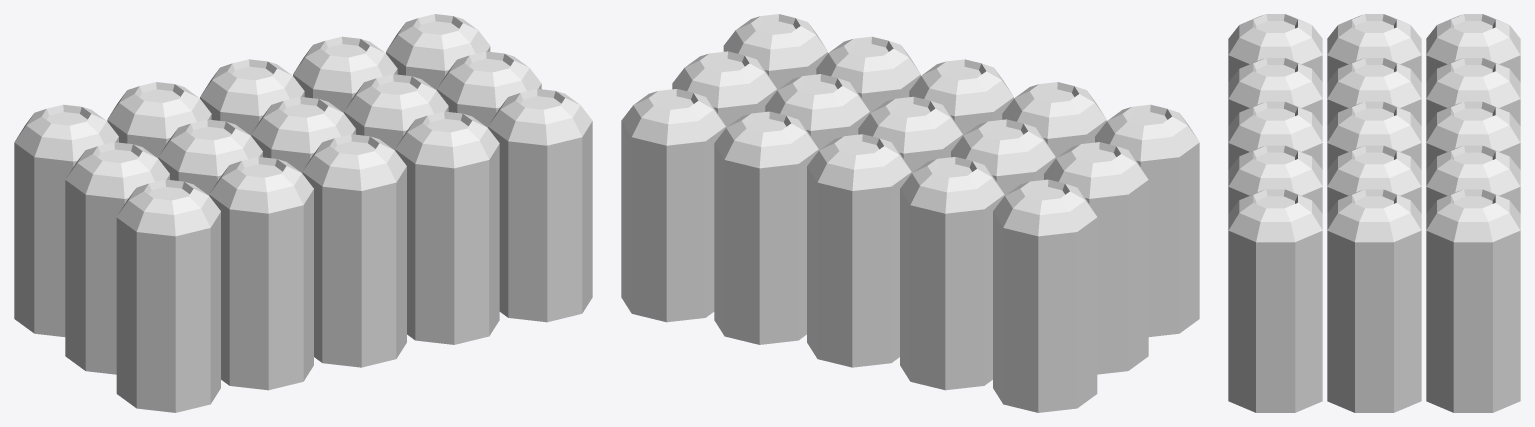
File: Props_ContainerFull.002.fbx
The picture shows the model from 3 angles, left to right: view 1: azimuth 30°, elevation 25°; view 2: azimuth 150°, elevation 25°; view 3: azimuth 270°, elevation 25°; orthographic projection. The views are drawn at different scales.
Parts seen in each view (by area): view 1: Props_ContainerFull.002; view 2: Props_ContainerFull.002; view 3: Props_ContainerFull.002.
Part boxes in pixels (box(x1,y1,x2,y2)): Props_ContainerFull.002: box(14, 14, 592, 412); Props_ContainerFull.002: box(621, 14, 1199, 412); Props_ContainerFull.002: box(1228, 14, 1520, 412).
Bounding box in the file's own units: 1.02 × 0.4313 × 0.5876.
